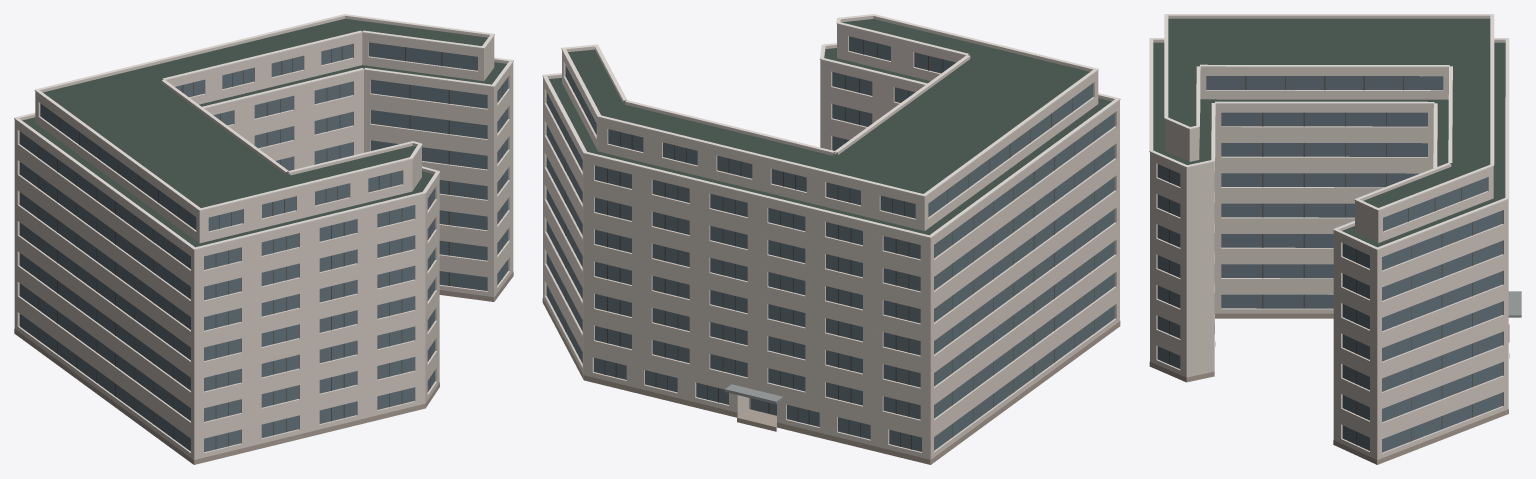
3 renders of one model, left to right at view 1: azimuth 30°, elevation 25°; view 2: azimuth 150°, elevation 25°; view 3: azimuth 270°, elevation 25°, orthographic. The views are drawn at different scales.
Visible parts, largest first — view 1: ihouseA__wall, ihouseA__glass, ihouseA__roof, ihouseA__trim, ihouseA__parapet, ihouseA__frame, ihouseA__base; view 2: ihouseA__wall, ihouseA__glass, ihouseA__roof, ihouseA__trim, ihouseA__parapet, ihouseA__base, ihouseA__frame; view 3: ihouseA__wall, ihouseA__glass, ihouseA__roof, ihouseA__trim, ihouseA__parapet, ihouseA__base, ihouseA__frame.
Part boxes in pixels (x1,y1,x2,y2): ihouseA__wall: (14, 34, 513, 464); ihouseA__glass: (19, 42, 508, 452); ihouseA__roof: (22, 18, 506, 247); ihouseA__trim: (14, 14, 513, 250); ihouseA__parapet: (14, 15, 513, 251); ihouseA__frame: (38, 46, 502, 449); ihouseA__base: (14, 271, 513, 464); ihouseA__wall: (543, 26, 1119, 464); ihouseA__glass: (546, 36, 1114, 451); ihouseA__roof: (549, 19, 1111, 464); ihouseA__trim: (542, 14, 1120, 238); ihouseA__parapet: (543, 16, 1119, 240); ihouseA__base: (542, 298, 1120, 464); ihouseA__frame: (565, 39, 1094, 449); ihouseA__wall: (1150, 69, 1508, 464); ihouseA__glass: (1157, 76, 1502, 452); ihouseA__roof: (1153, 18, 1505, 464); ihouseA__trim: (1149, 14, 1509, 250); ihouseA__parapet: (1150, 15, 1508, 252); ihouseA__base: (1149, 313, 1509, 464); ihouseA__frame: (1169, 76, 1472, 444).
Size of the model in its own units: 46.35 by 25.5 by 34.47.
